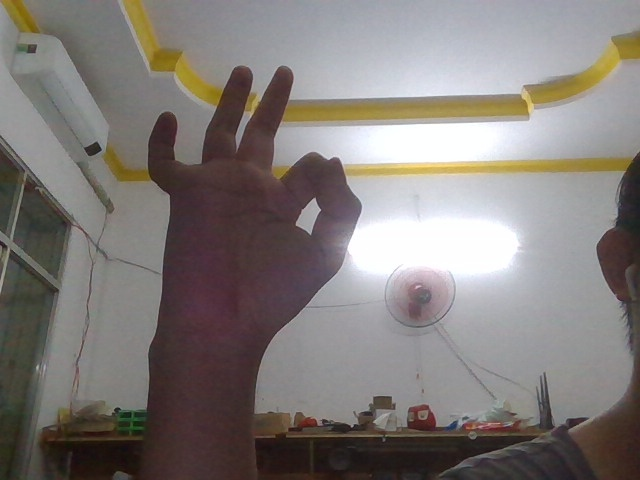okay: (120, 42, 373, 411)
